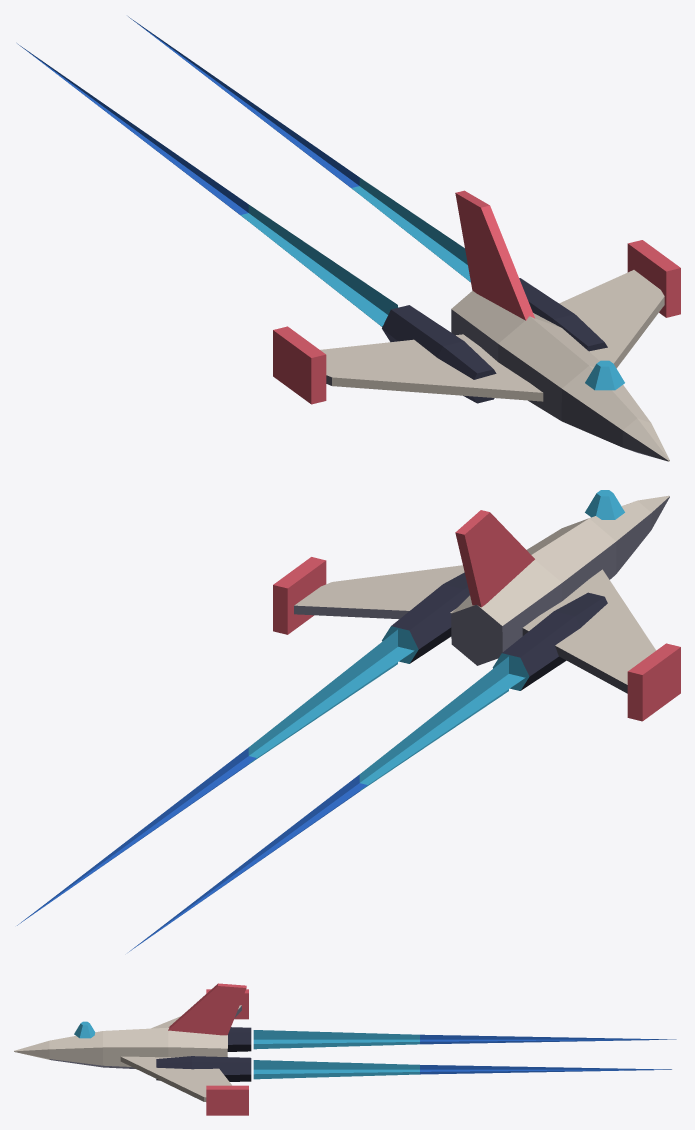
Rendered from ship.glb.
The picture shows the model from 3 angles, top to bottom: view 1: azimuth 30°, elevation 25°; view 2: azimuth 150°, elevation 25°; view 3: azimuth 270°, elevation 25°; orthographic projection. The views are drawn at different scales.
Visible parts, largest first — view 1: Hull, Trail; view 2: Hull, Trail; view 3: Hull, Trail.
Boxes of the visible parts, bbox=[...] form: Hull: bbox=[273, 190, 680, 461]; Trail: bbox=[17, 16, 470, 326]; Hull: bbox=[273, 490, 680, 721]; Trail: bbox=[17, 629, 525, 952]; Hull: bbox=[14, 983, 251, 1115]; Trail: bbox=[253, 1030, 676, 1079].
Bounding box in the file's own units: 20 × 8 × 56.2.
